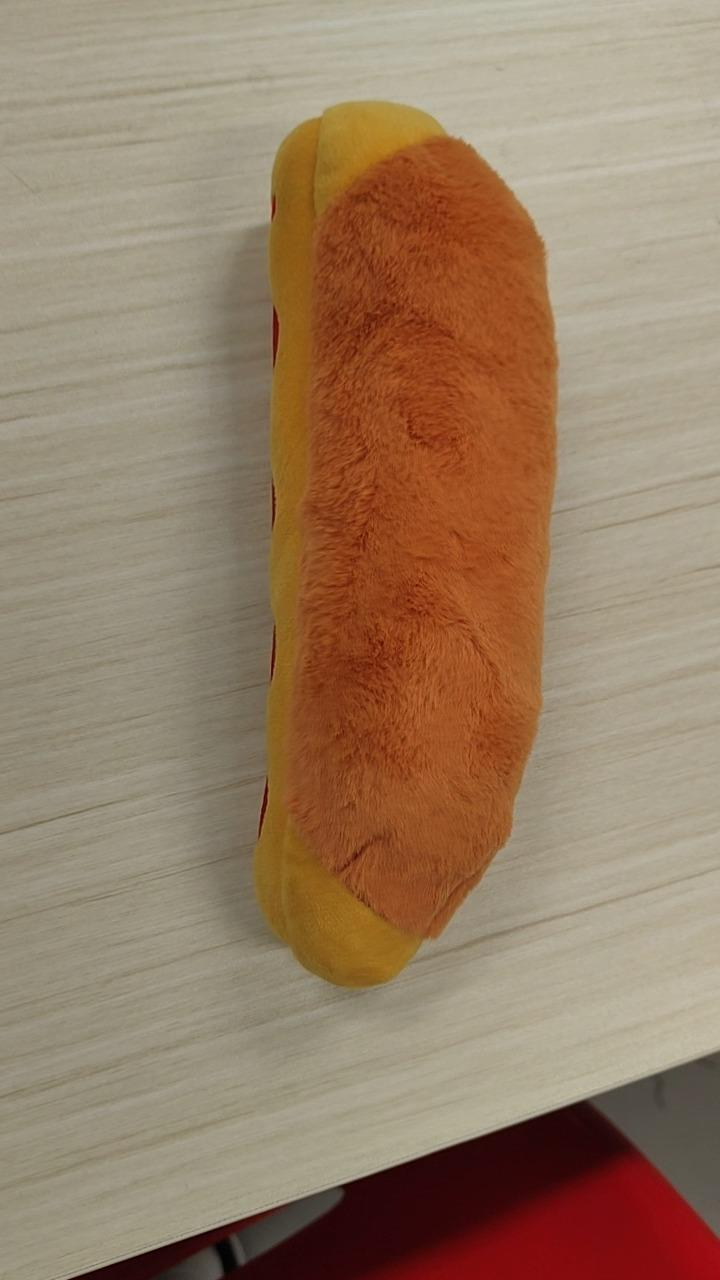hotdog: (252, 97, 559, 989)
